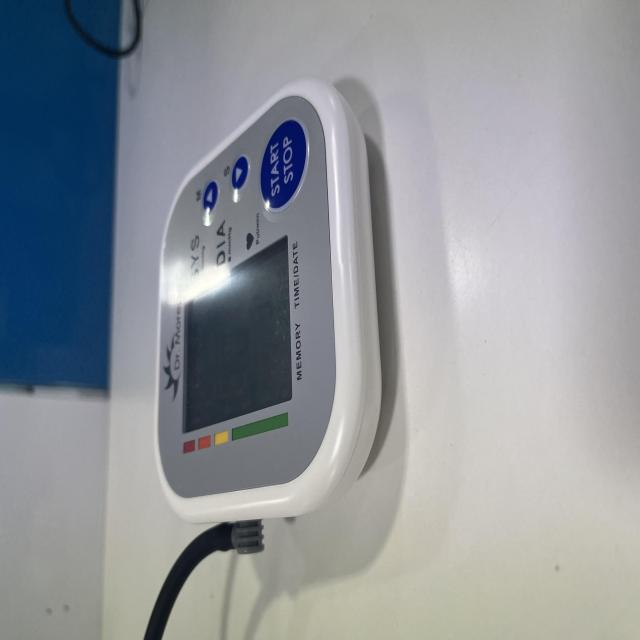bp: (154, 80, 378, 529)
